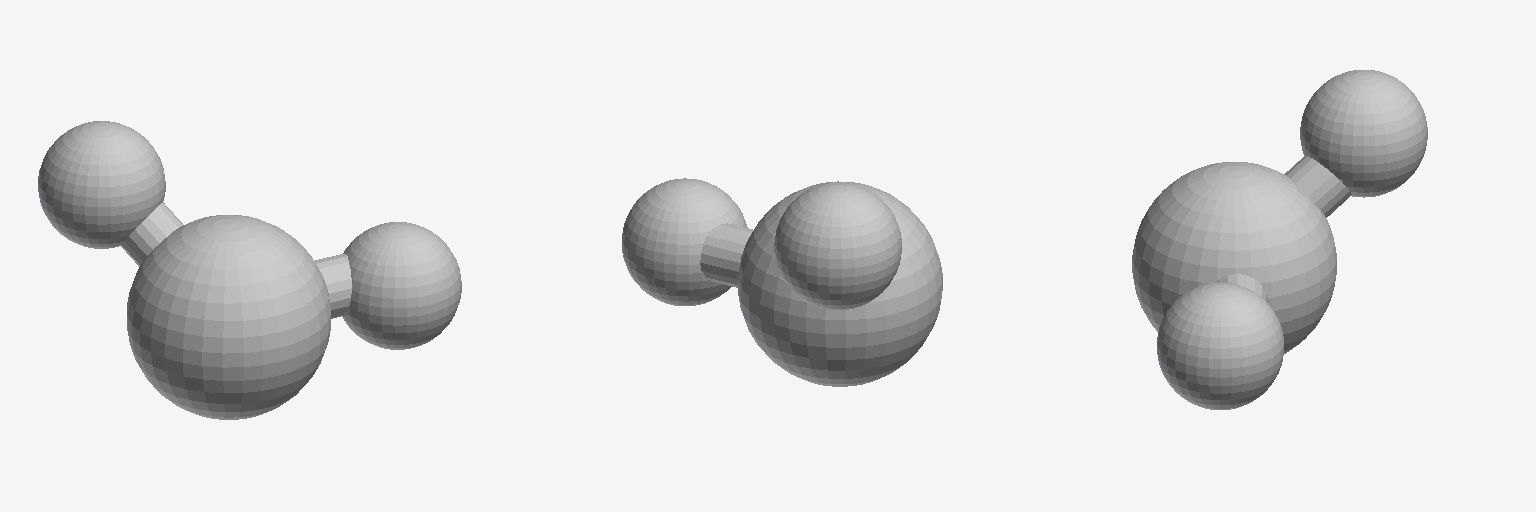
The picture shows the model from 3 angles: view 1: azimuth 30°, elevation 25°; view 2: azimuth 150°, elevation 25°; view 3: azimuth 270°, elevation 25°; orthographic projection.
Parts seen in each view (by area): view 1: Oxygen_ball.001_SurfSphere.008, Hydrogen_ball.003_SurfSphere.010, Hydrogen_ball.001_SurfSphere.009, Stick_Cylinder_0001_Cylinder.003, Stick_Cylinder_0000_Cylinder.002; view 2: Oxygen_ball.001_SurfSphere.008, Hydrogen_ball.003_SurfSphere.010, Hydrogen_ball.001_SurfSphere.009, Stick_Cylinder_0000_Cylinder.002; view 3: Oxygen_ball.001_SurfSphere.008, Hydrogen_ball.001_SurfSphere.009, Hydrogen_ball.003_SurfSphere.010, Stick_Cylinder_0001_Cylinder.003.
Part boxes in pixels (bbox=[...]): Oxygen_ball.001_SurfSphere.008: bbox=[127, 215, 330, 419]; Hydrogen_ball.003_SurfSphere.010: bbox=[38, 121, 165, 248]; Hydrogen_ball.001_SurfSphere.009: bbox=[342, 222, 461, 349]; Stick_Cylinder_0001_Cylinder.003: bbox=[121, 202, 182, 266]; Stick_Cylinder_0000_Cylinder.002: bbox=[314, 254, 351, 318]; Oxygen_ball.001_SurfSphere.008: bbox=[738, 181, 942, 386]; Hydrogen_ball.003_SurfSphere.010: bbox=[774, 182, 901, 309]; Hydrogen_ball.001_SurfSphere.009: bbox=[622, 178, 747, 305]; Stick_Cylinder_0000_Cylinder.002: bbox=[700, 223, 753, 287]; Oxygen_ball.001_SurfSphere.008: bbox=[1132, 162, 1336, 353]; Hydrogen_ball.001_SurfSphere.009: bbox=[1157, 282, 1283, 409]; Hydrogen_ball.003_SurfSphere.010: bbox=[1300, 70, 1427, 197]; Stick_Cylinder_0001_Cylinder.003: bbox=[1284, 156, 1351, 217].
Size of the model in its own units: 40.23 by 28.86 by 30.74.